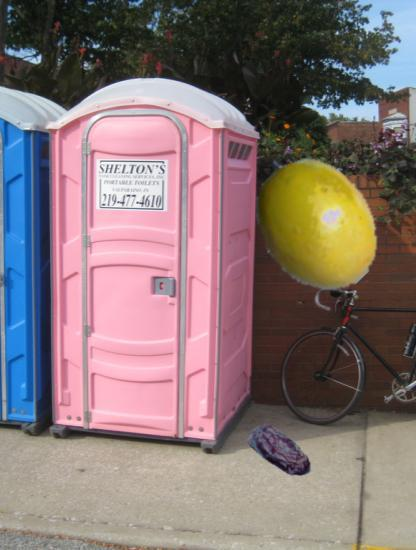Dates: (244, 414, 318, 488)
Maracuja: (241, 150, 388, 297)
